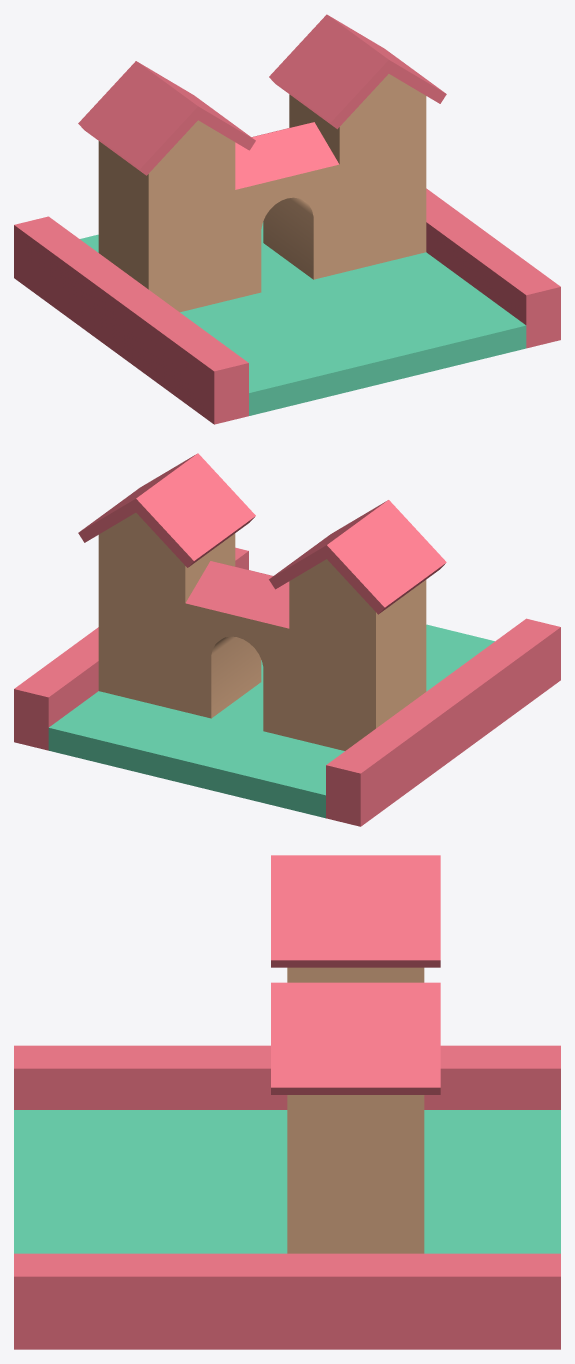
Rendered from castle.glb.
3 views of the same model, one above another, from view 1: azimuth 30°, elevation 25°; view 2: azimuth 150°, elevation 25°; view 3: azimuth 270°, elevation 25° (orthographic). The views are drawn at different scales.
Visible parts, largest first — view 1: castle; view 2: castle; view 3: castle.
Boxes of the visible parts, x1,y1,x2,y2 form: castle: (14, 14, 560, 424); castle: (14, 453, 560, 826); castle: (14, 855, 560, 1349).
Size of the model in its own units: 0.9999 by 0.635 by 0.9999.
